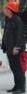hard-hat: (0, 0, 14, 12)
